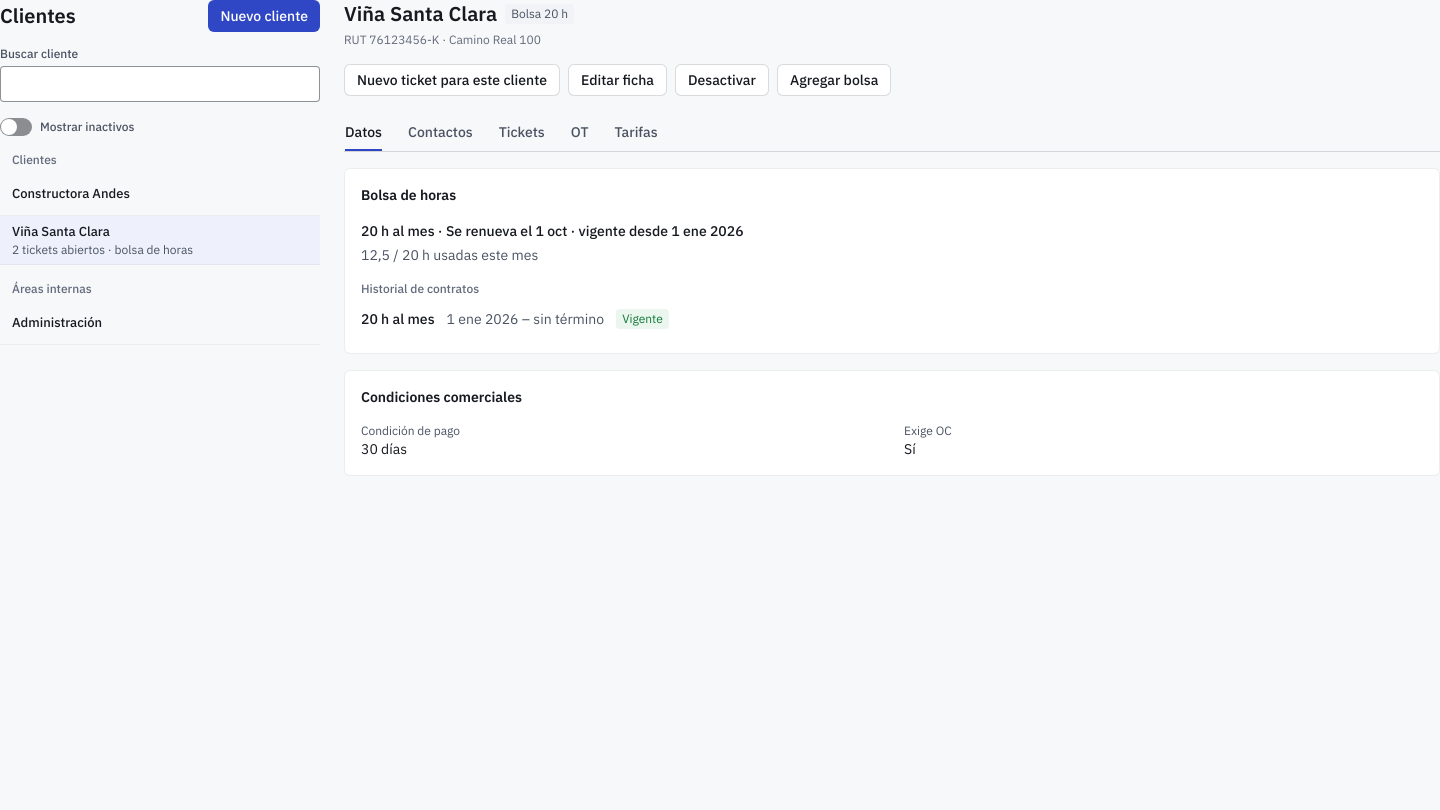
Test: agregar bolsa: un 409 por solape se muestra en el diálogo
The image size is (1440, 810).
Click the button "Agregar bolsa" at (834, 80), box [777,64,891,96]
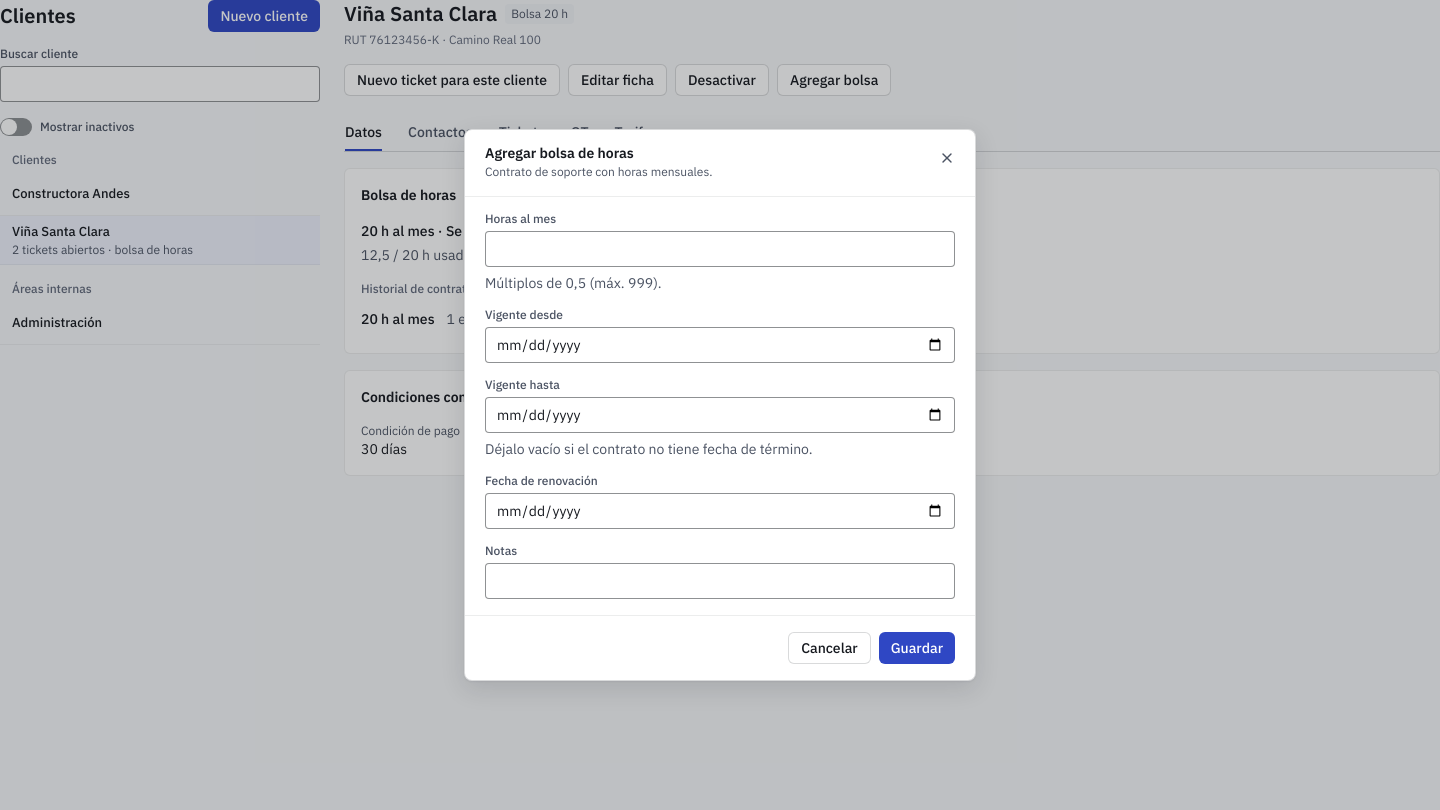
Type "10" into the field labelled "Horas al mes" at (720, 249), box [485,231,955,267]
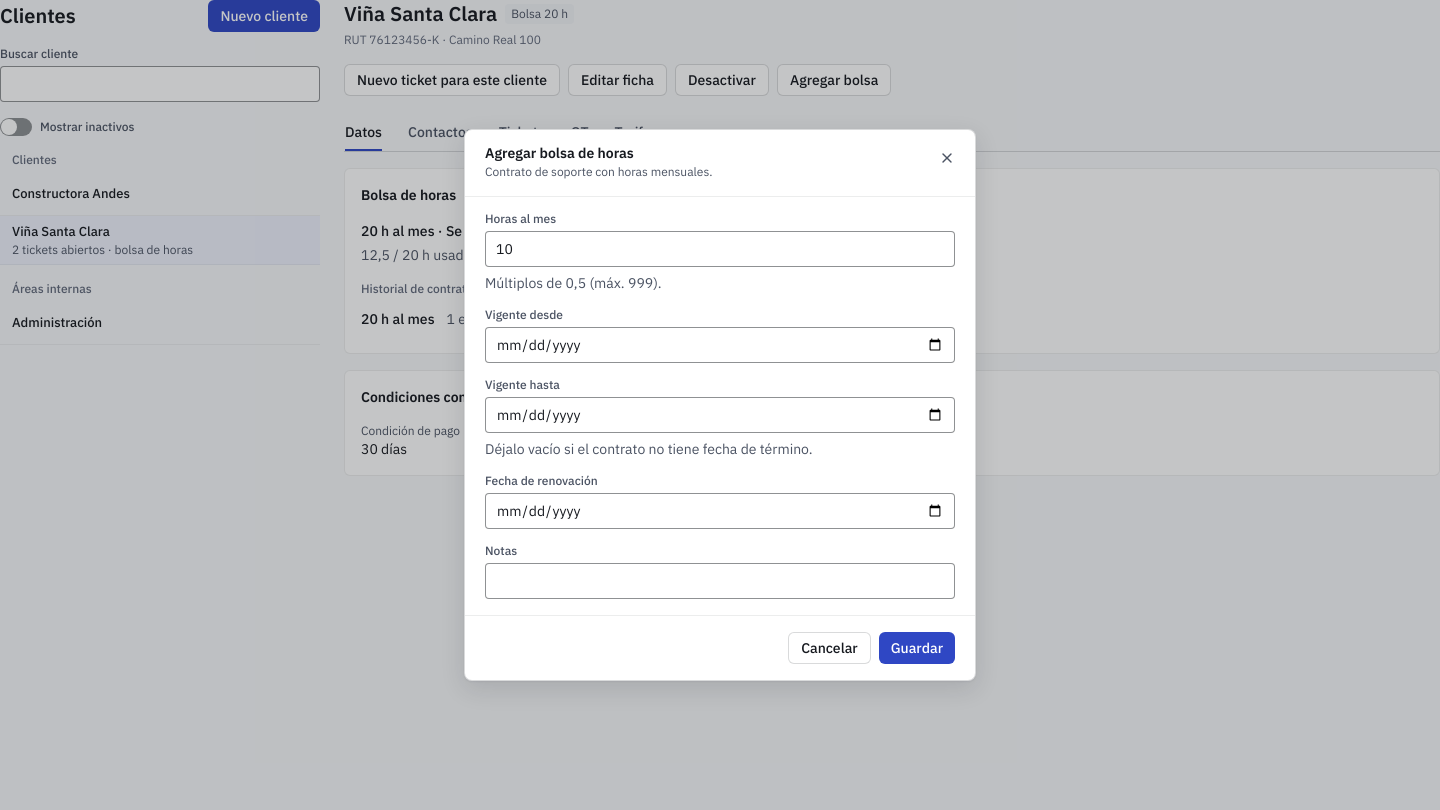
Type "2026-06-01" into the date field labelled "Vigente desde" at (720, 345), box [485,327,955,363]
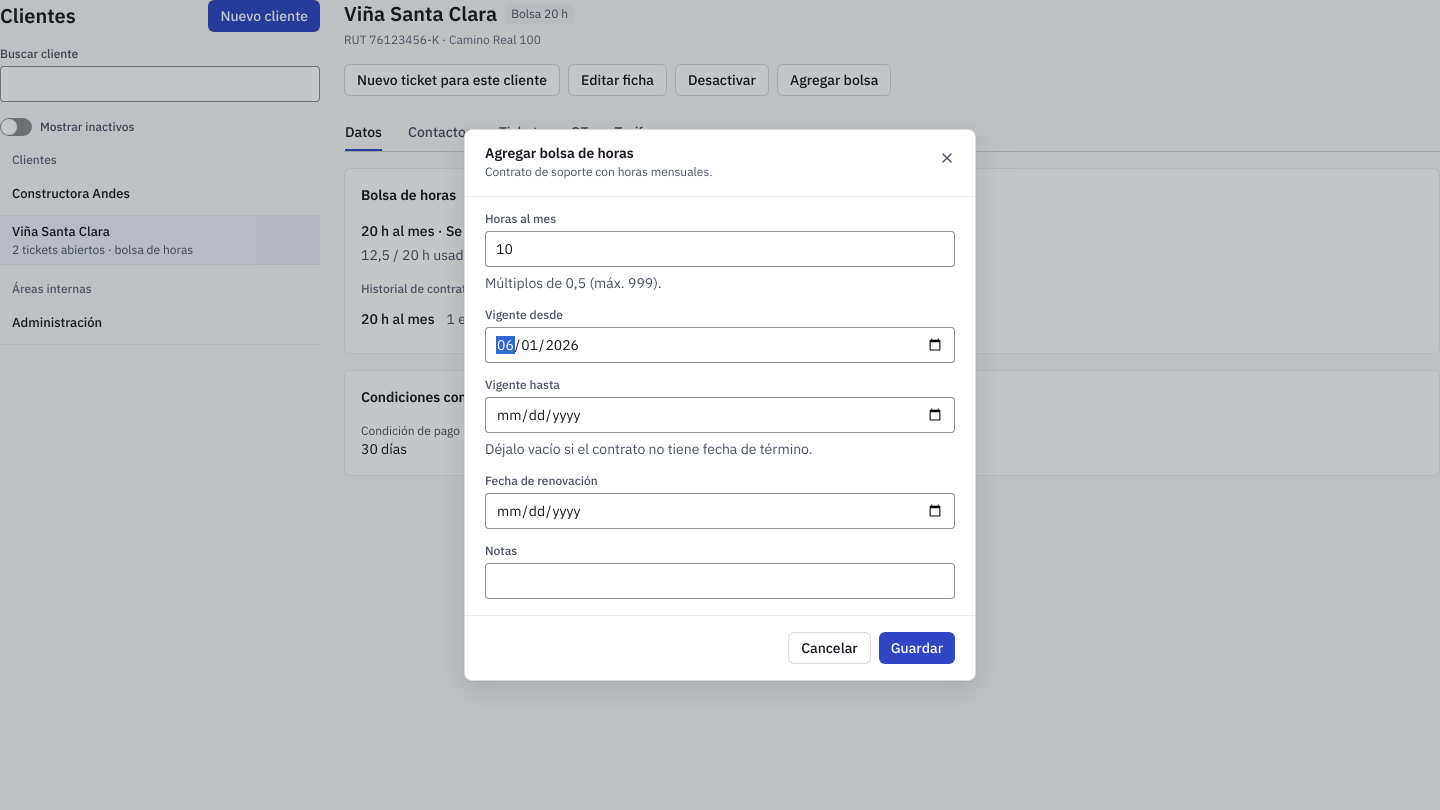
Click the button "Guardar" at (917, 648), box [879,632,955,664]
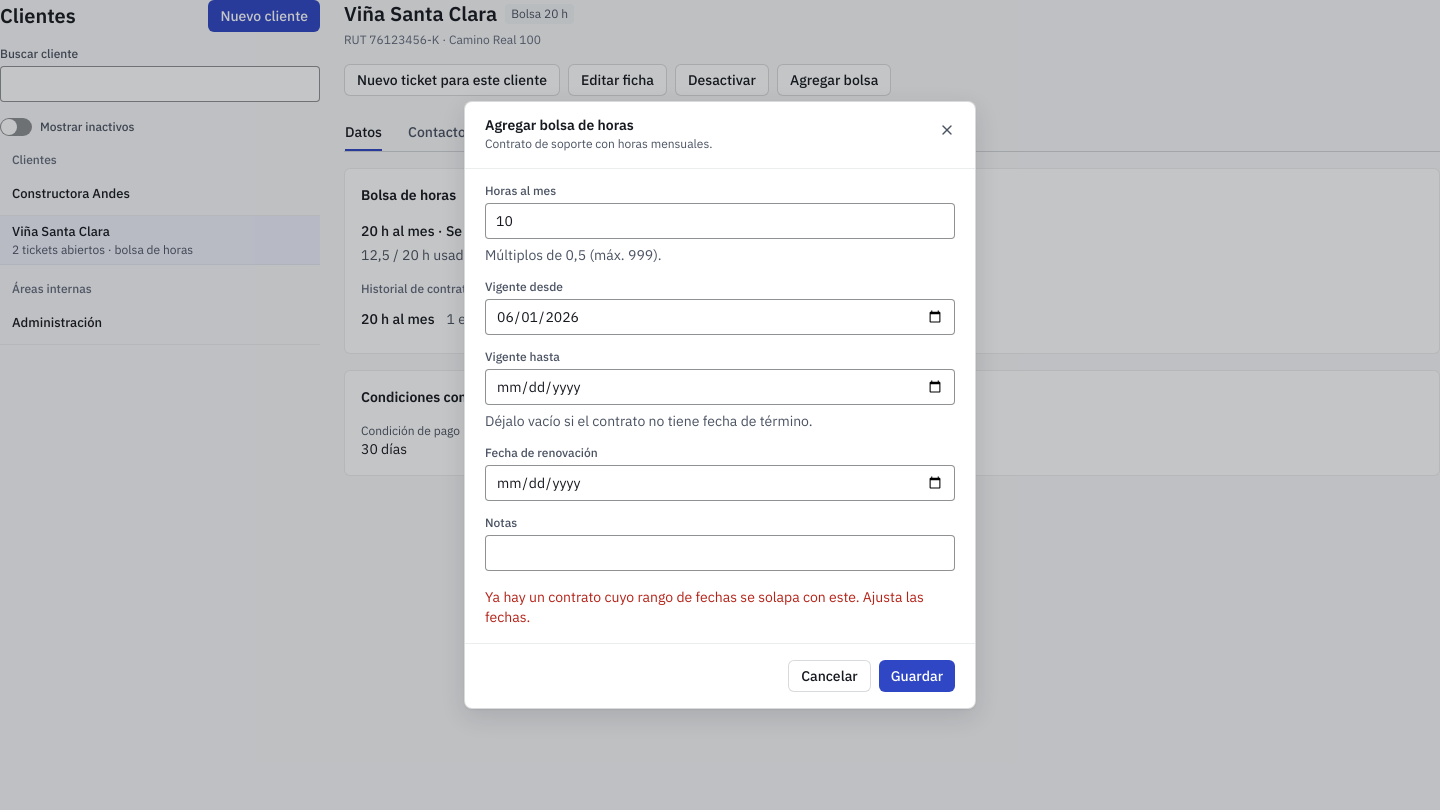
Check: the text "Ya hay un contrato cuyo rango de fechas se solapa con este. Ajusta las fechas." is shown, box [485,587,955,627]
